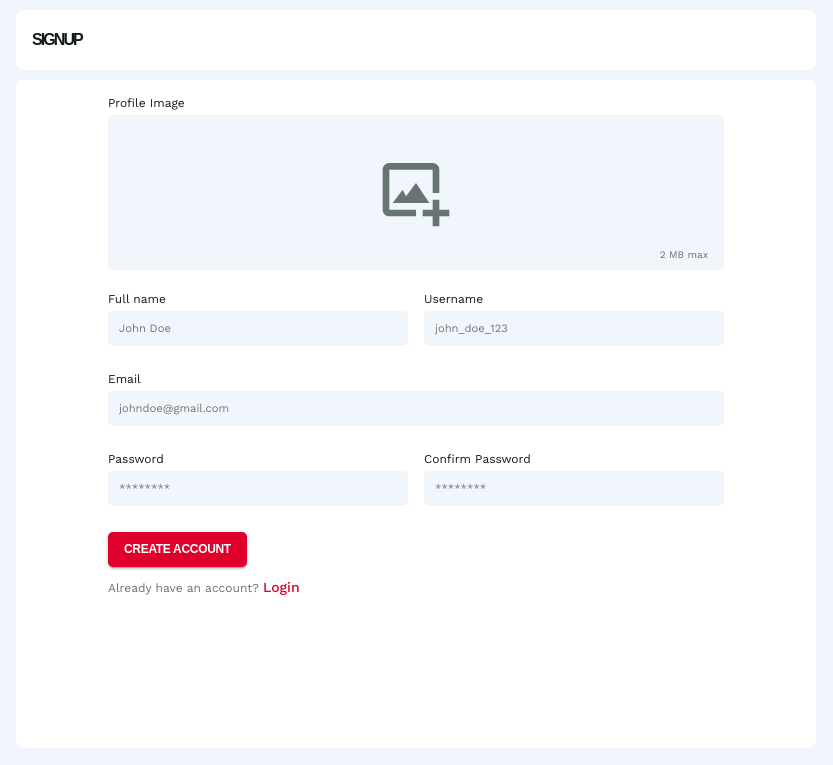
Test: SignupPage › form validation › shows error for invalid email
Type "invalid-email" into the field with placeholder "johndoe@gmail.com".
click(416, 408); type("invalid-email")  # box [108,391,724,426]
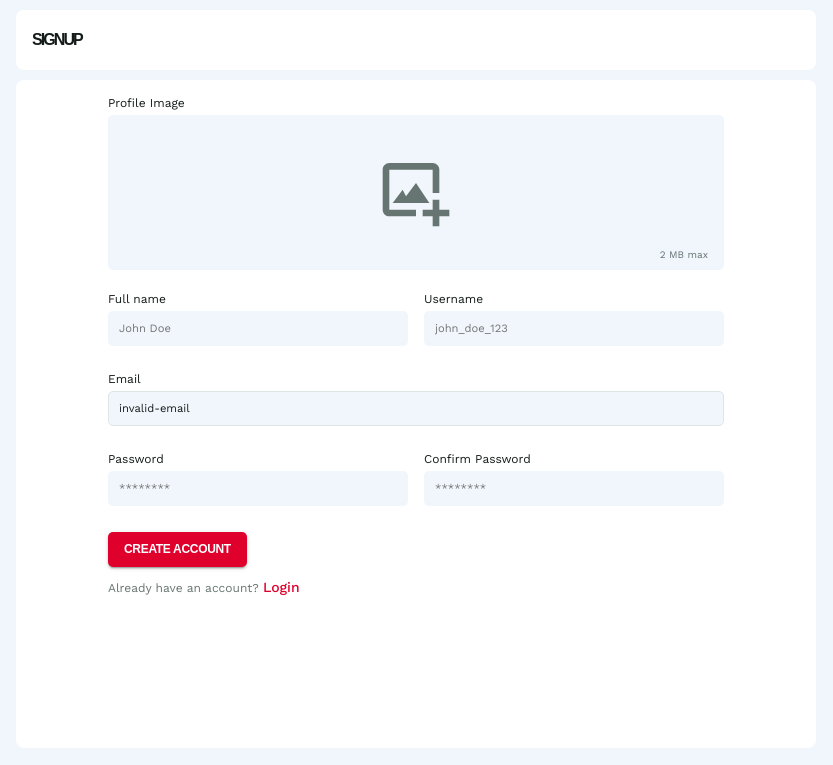
Click the button "CREATE ACCOUNT".
click(177, 550)  # box [108,532,247,567]
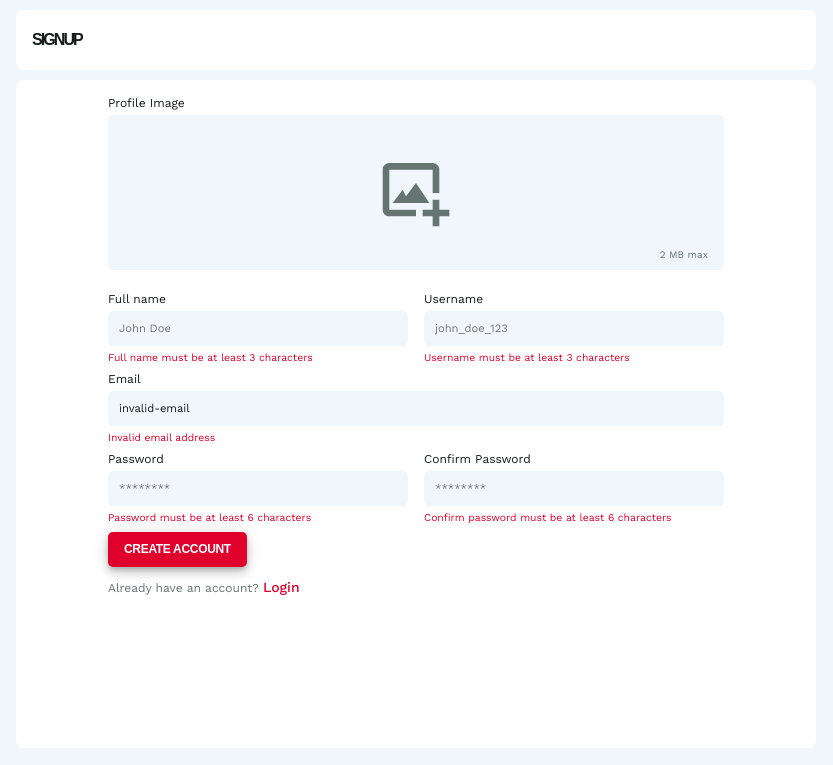
Now the text "Invalid email address" is shown, box [108,431,215,444]
